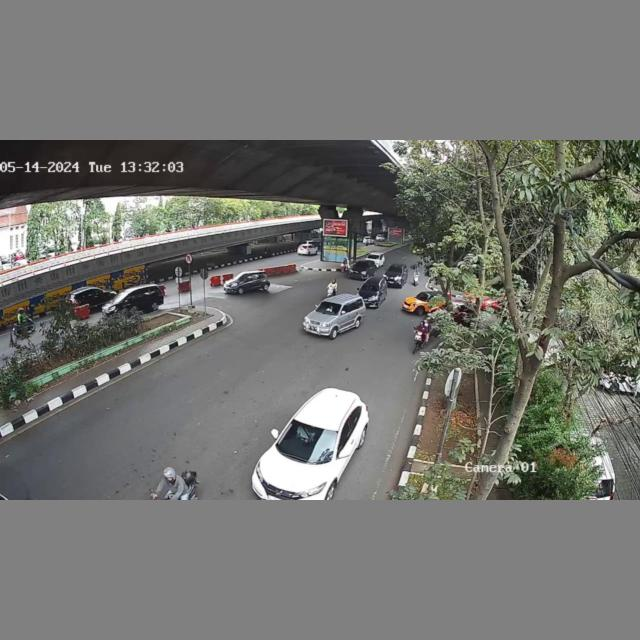windshield: (276, 420, 335, 455), (314, 298, 343, 314)
